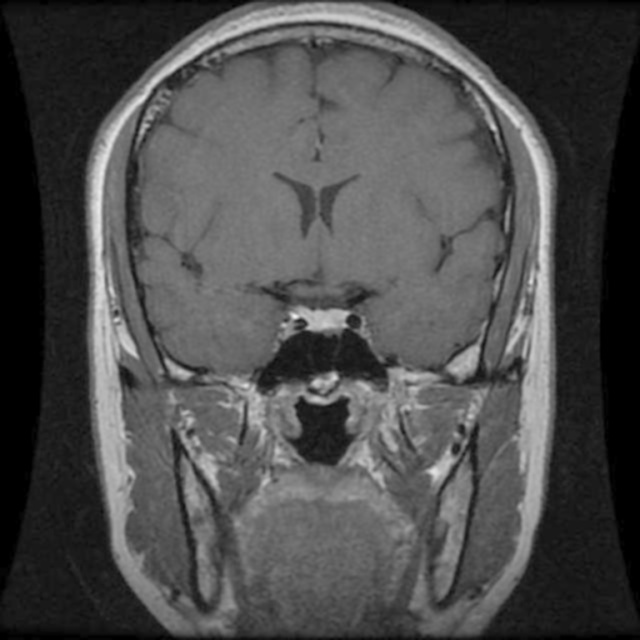no tumor: (302, 298, 348, 332)
